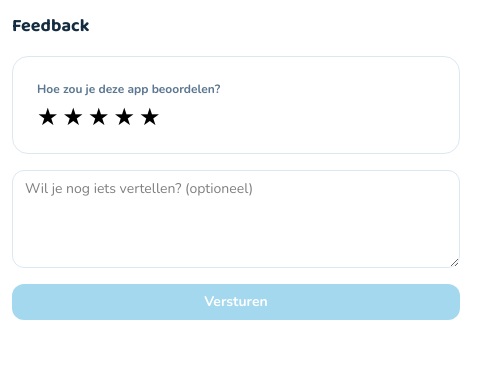
Test: Feedback › shows an error message on failure, keeps the form filled in
Click the button named "5 van de 5 sterren" at (150, 117), box top-left (139, 105), bottom-right (161, 129)
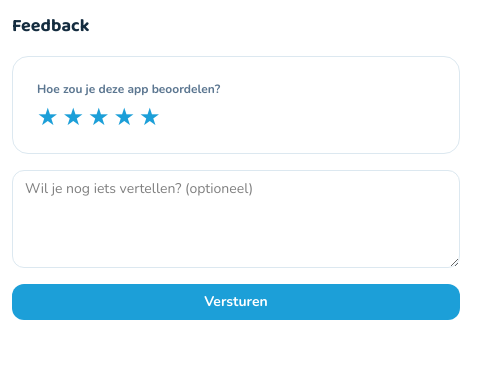
Click the button "Versturen" at (236, 302), box top-left (12, 284), bottom-right (460, 320)
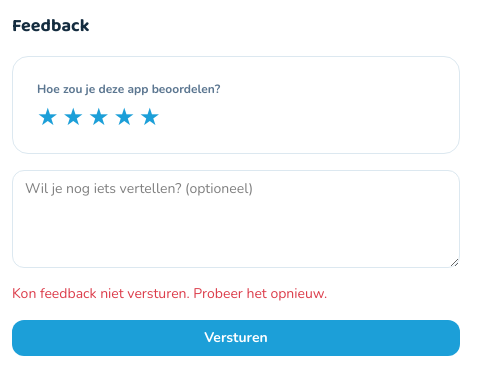
Result: the text "Kon feedback niet versturen. Probeer het opnieuw." is shown at top-left (12, 284), bottom-right (327, 303)
